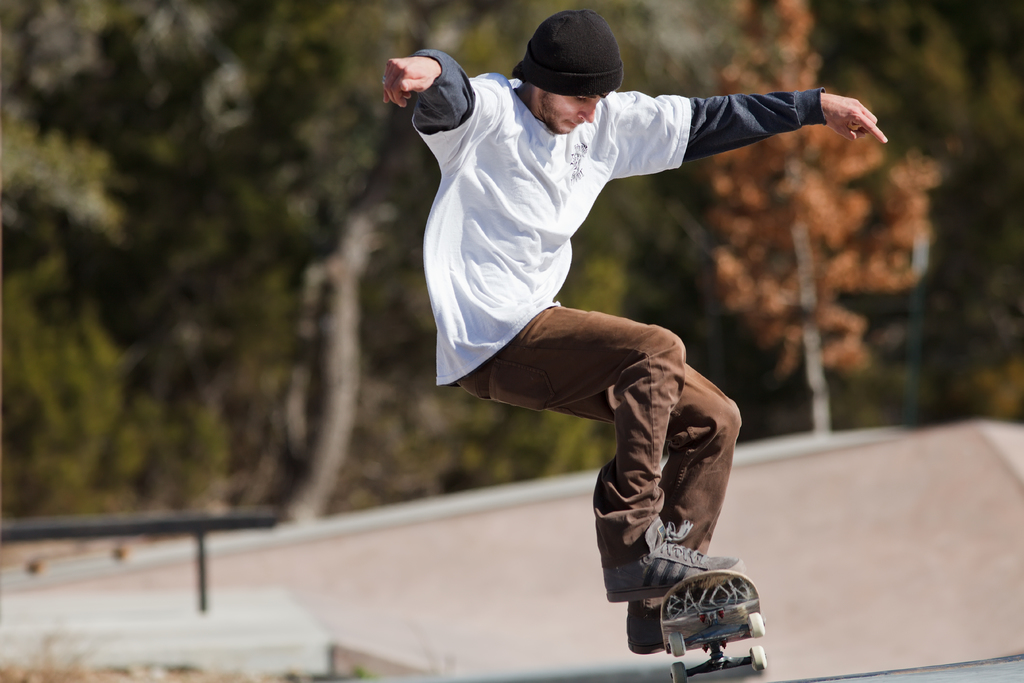Person: (382, 9, 888, 654)
